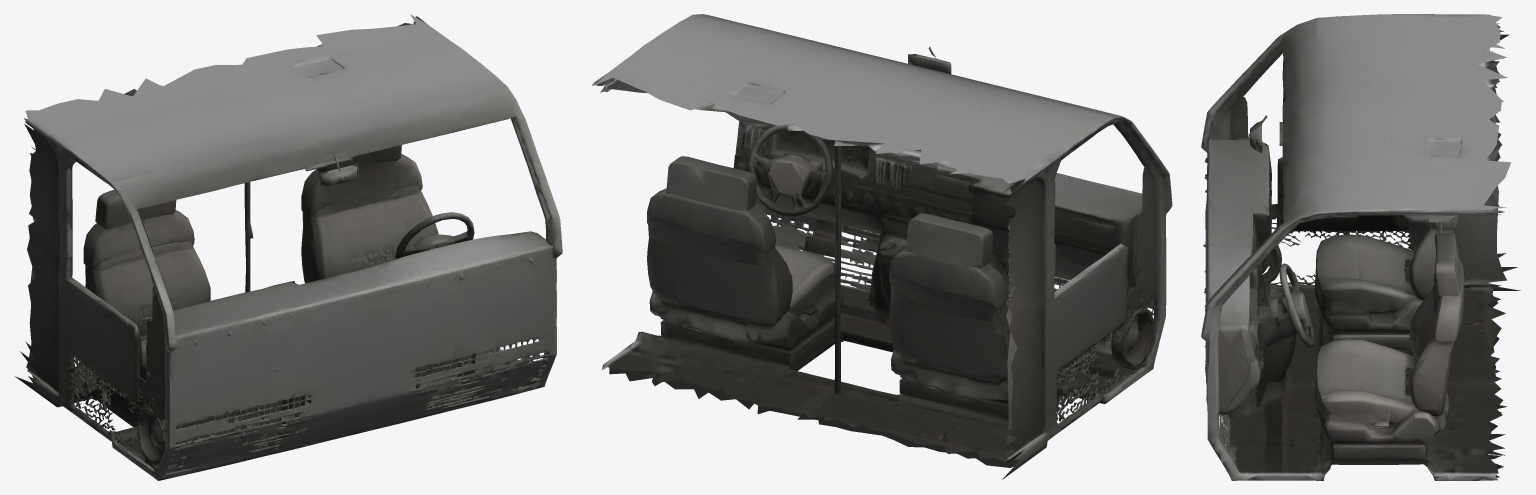
Rendered from int_van.glb.
3 renders of one model, left to right at view 1: azimuth 30°, elevation 25°; view 2: azimuth 150°, elevation 25°; view 3: azimuth 270°, elevation 25°, orthographic. The views are drawn at different scales.
Parts seen in each view (by area): view 1: veiculo; view 2: veiculo; view 3: veiculo.
Boxes of the visible parts, x1,y1,x2,y2 form: veiculo: (15,14,562,480); veiculo: (592,14,1172,479); veiculo: (1201,14,1520,480).
Bounding box in the file's own units: 1.9 × 1.24 × 1.31.
1 material, 1 textured.
